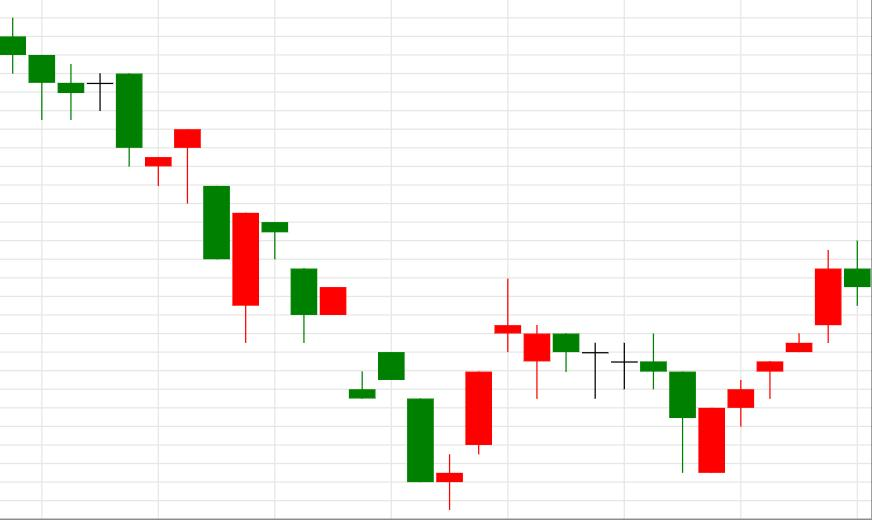morning_star_rise: (116, 74, 492, 510)
